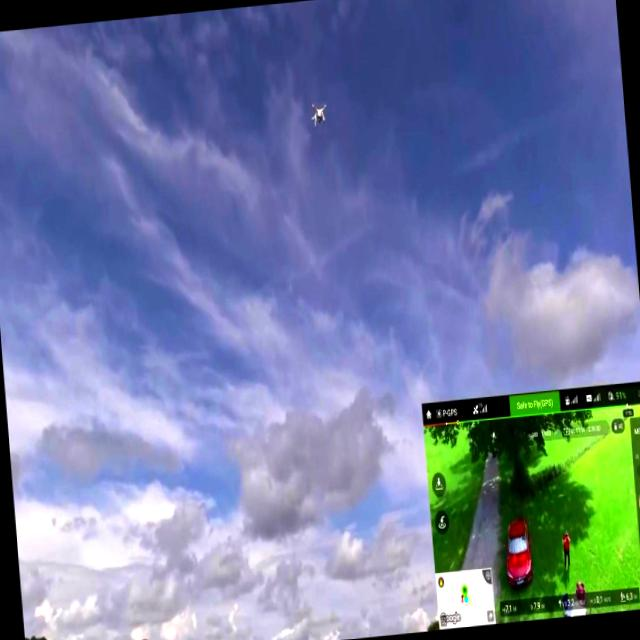drone: (304, 92, 331, 137)
